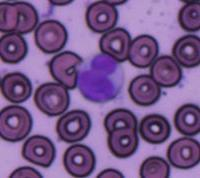M: (76, 53, 125, 103)
